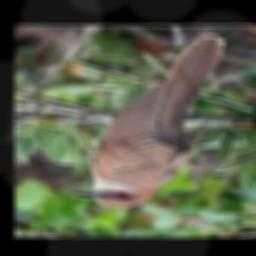Cuckoo: (75, 35, 224, 207)
